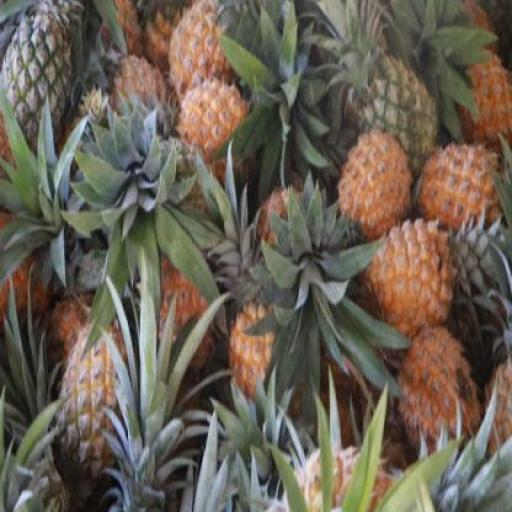------------------------------: (60, 343, 128, 496)
Pineapple - v8 v1: (393, 324, 483, 456), (370, 218, 456, 342), (338, 132, 415, 247), (417, 142, 501, 238), (167, 0, 238, 102), (177, 76, 250, 165)
